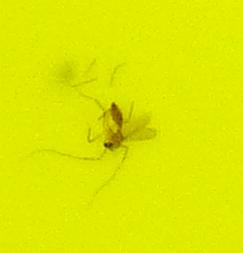Nematocera: (100, 100, 143, 153)
